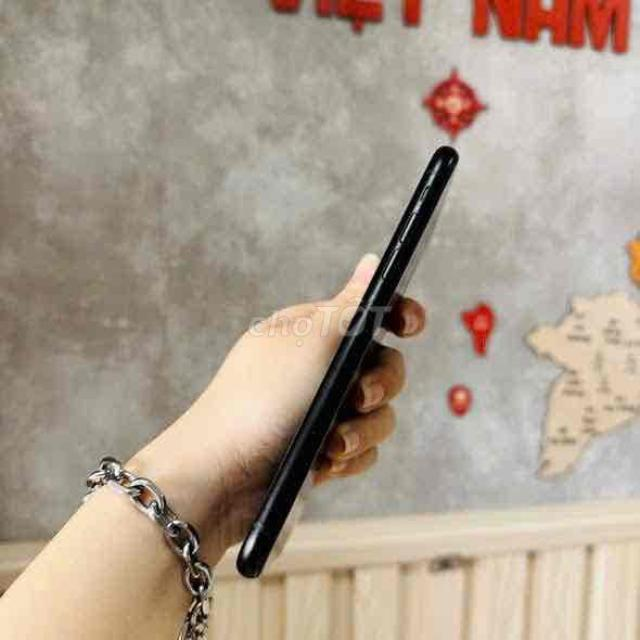gen_x_xs: (236, 139, 470, 596)
